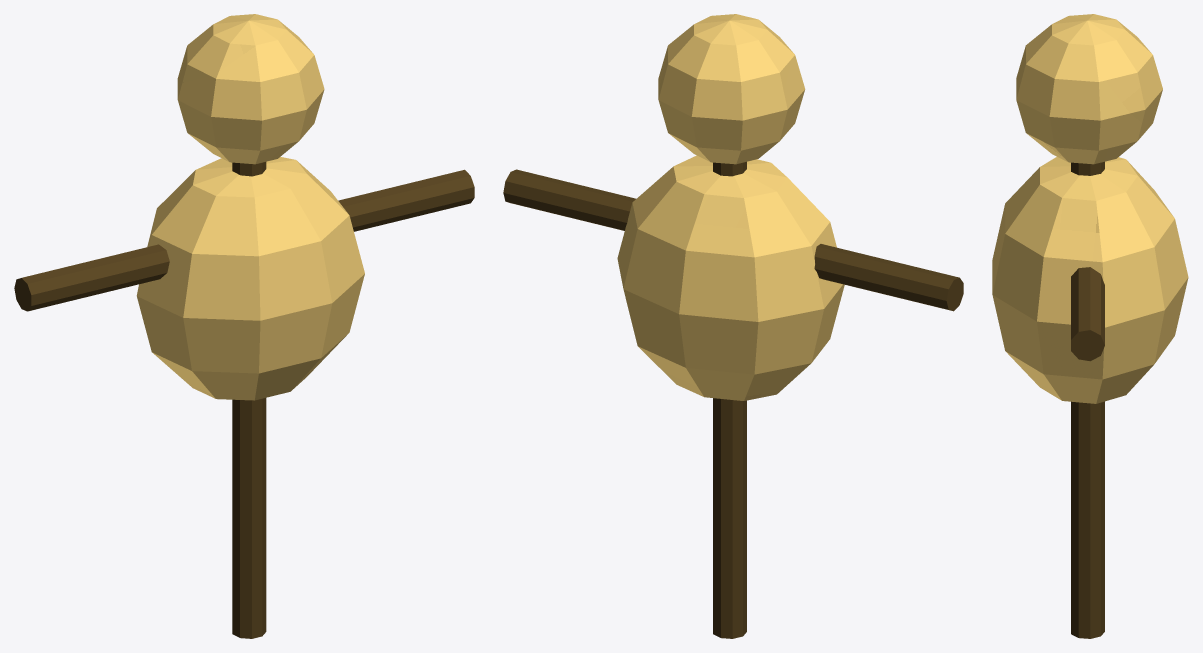
File: Low-Poly_Training-Dummy.obj
The picture shows the model from 3 angles, left to right: view 1: azimuth 30°, elevation 25°; view 2: azimuth 150°, elevation 25°; view 3: azimuth 270°, elevation 25°; orthographic projection.
Parts seen in each view (by area): view 1: Cylinder.001; view 2: Cylinder.001; view 3: Cylinder.001.
Part boxes in pixels (<box>): Cylinder.001: <box>14,14,474,638</box>; Cylinder.001: <box>503,14,963,638</box>; Cylinder.001: <box>992,14,1188,638</box>.
Bounding box in the file's own units: 2.67 × 3.51 × 1.02.
1 material, 1 textured.
